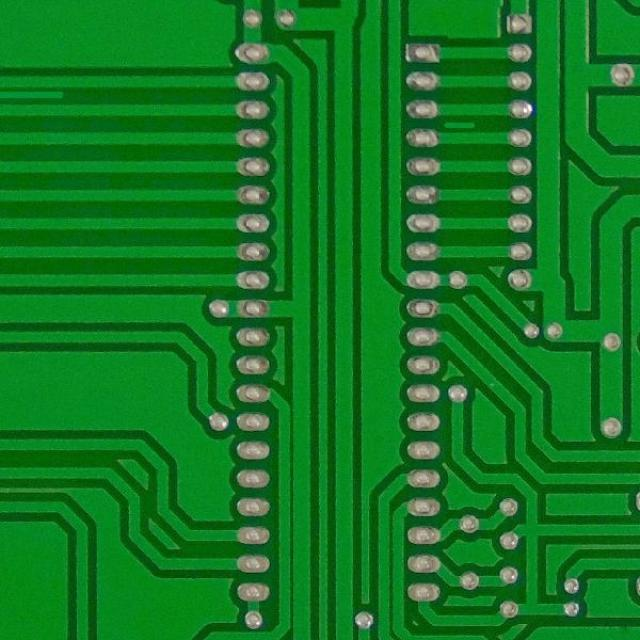spurious_copper: (1, 83, 69, 106), (441, 116, 481, 134)
